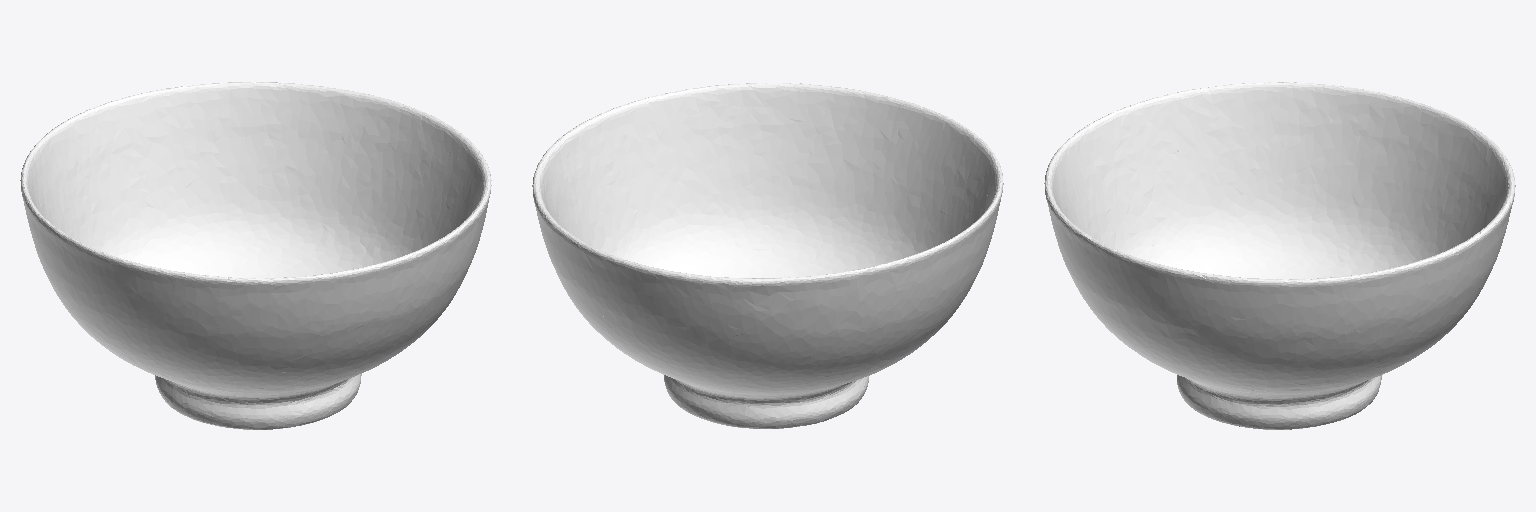
URDF robot description (5_chinese_ceramic_bowl_large_0):
<?xml version='1.0' encoding='utf-8'?>
<robot name="5_chinese_ceramic_bowl_large_0">
        <link name="link_0">
            <visual>
                <origin xyz="0.0 0.0 0.0" rpy="0.0 0.0 0.0" />
                <geometry>
                    <mesh filename="textured_objs/textured.obj" scale="1 1 1.0" />
                </geometry>
                <material name="white">
                    <color rgba="1 1 1 1" />
                </material>
            </visual>
            <collision>
                <origin xyz="0.0 0.0 0.0" rpy="0.0 0.0 0.0" />
                <geometry>
                    <mesh filename="textured_objs/textured.obj" scale="1 1 1.0" />
                </geometry>
            </collision>
            <inertial>
                <mass value="0.1" />
                <inertia ixx="0.0001" ixy="0.0" ixz="0.0" iyy="0.0001" iyz="0.0" izz="0.0001" />
            </inertial>
        </link>
    </robot>

--- Render facts (derived) ---
3 views of the same robot in one strip: view 1: azimuth 30°, elevation 25°; view 2: azimuth 150°, elevation 25°; view 3: azimuth 270°, elevation 25° (orthographic).
Robot: 5_chinese_ceramic_bowl_large_0 — 1 links, 0 joints (none); root link link_0; default pose: every joint at zero.
Links seen in each view (by area): view 1: link_0; view 2: link_0; view 3: link_0.
Link boxes in pixels (x1,y1,x2,y2): link_0: [20, 82, 491, 429]; link_0: [532, 83, 1003, 428]; link_0: [1044, 82, 1515, 429].
Bounding box of the posed robot: 0.1526 × 0.154 × 0.076 m (x, y, z).
1 mesh visuals loaded from 1 distinct referenced files (1 OBJ).